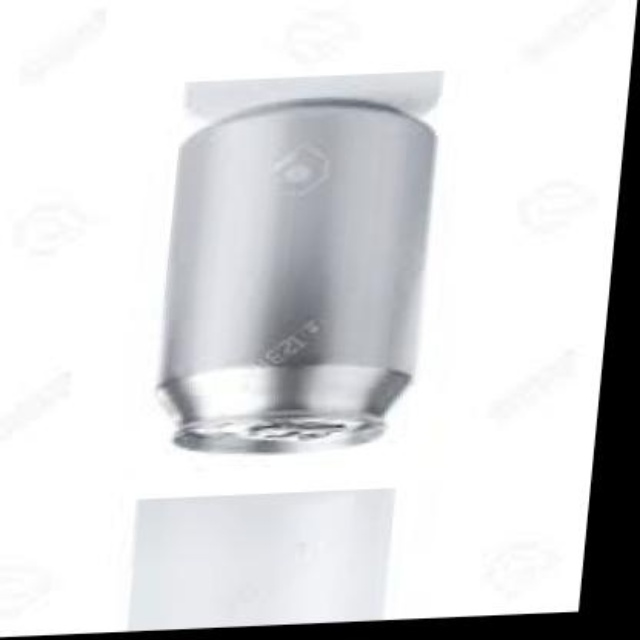trash: (162, 72, 440, 451)
